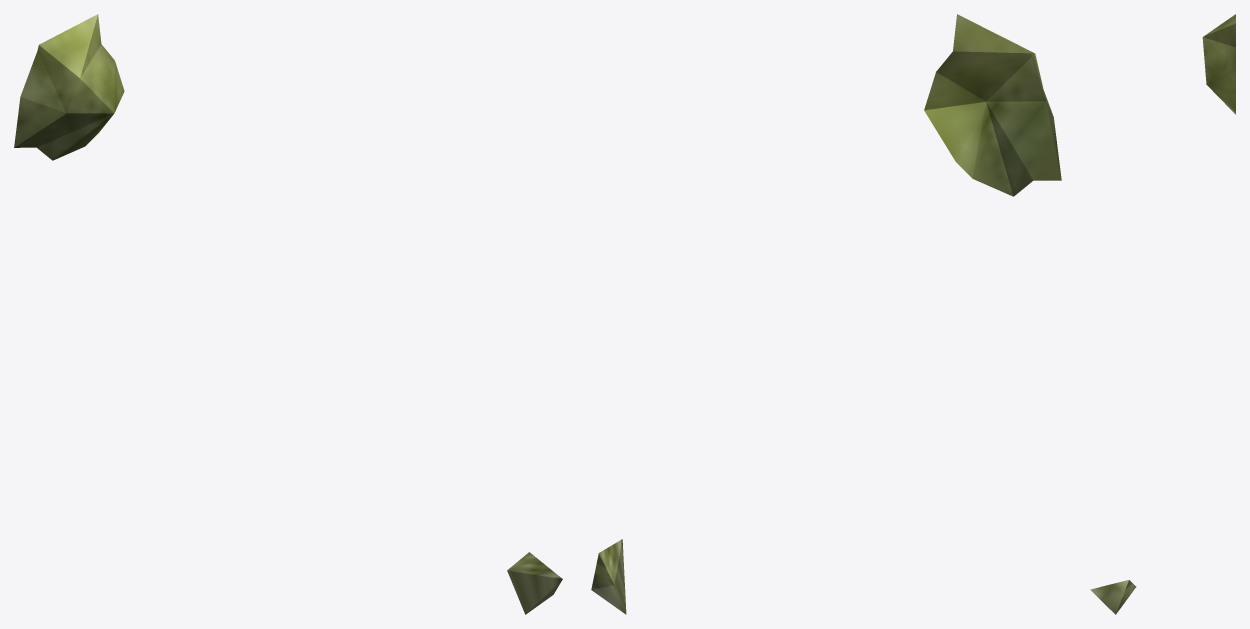
3 views of the same model, side by side, from view 1: azimuth 30°, elevation 25°; view 2: azimuth 150°, elevation 25°; view 3: azimuth 270°, elevation 25° (orthographic). The views are drawn at different scales.
Bounding box in the file's own units: 0.733 × 0.9566 × 0.2718.
Materials: 1 (1 with a texture image).
